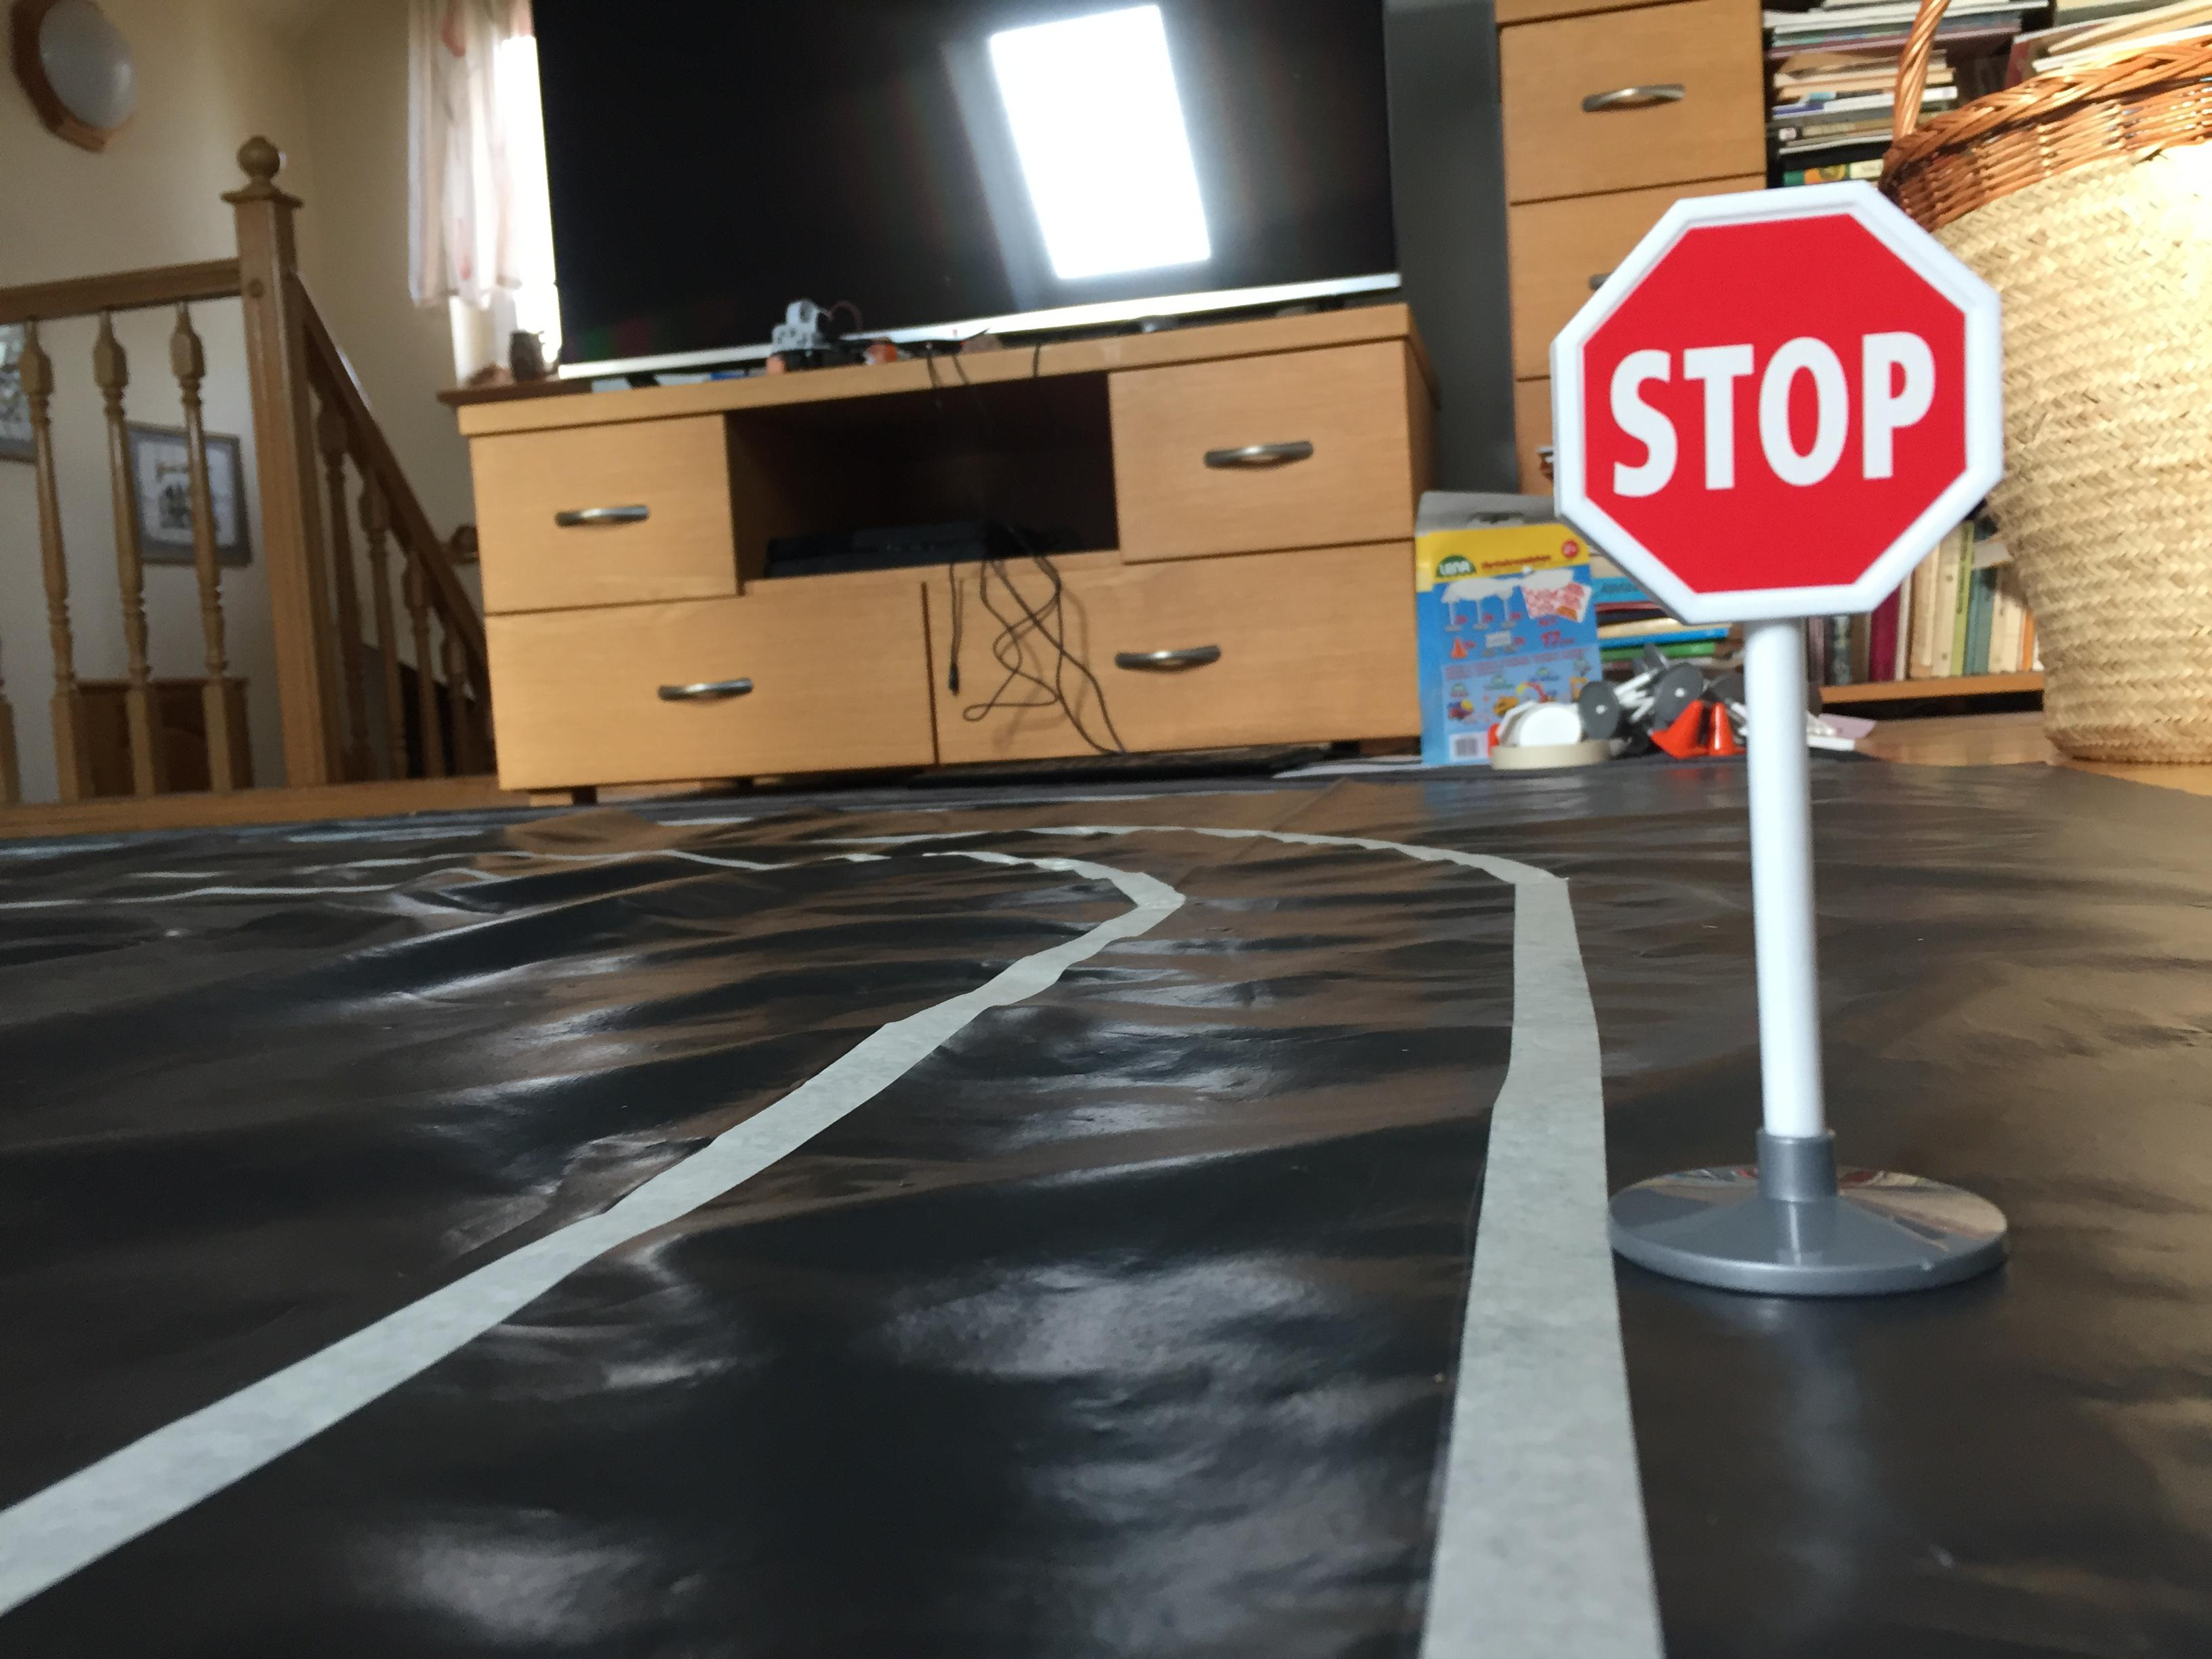stop: (1547, 169, 2034, 647)
